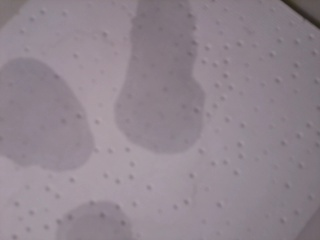Water_detected: (123, 3, 189, 136), (0, 77, 84, 163), (72, 201, 130, 240)
